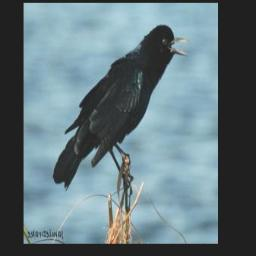Crow: (53, 24, 189, 196)
